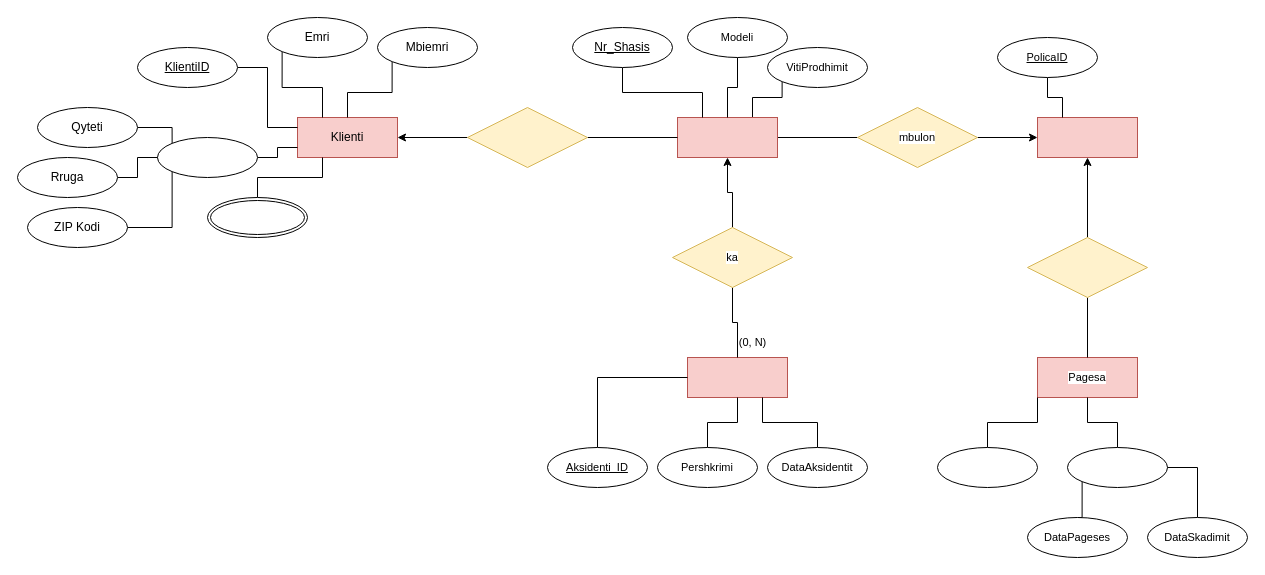
This 1265x575 diagram has some shape labels left out. The shapes that lost their labels are listed below. From the top down, each one's centre as x and y in pixels, then its label:
(207,157): Adresa
(527,137): posedon
(727,137): Automjeti
(1087,137): PolicaSigurimit
(257,217): Email
(1087,267): perfshin
(737,377): Aksidenti
(987,467): PagesaID
(1117,467): Periudha
